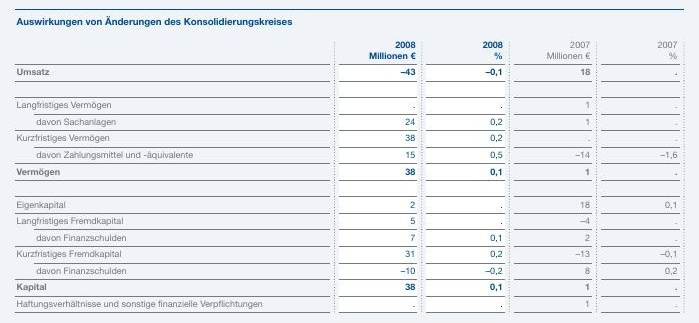table: (0, 0, 699, 323)
